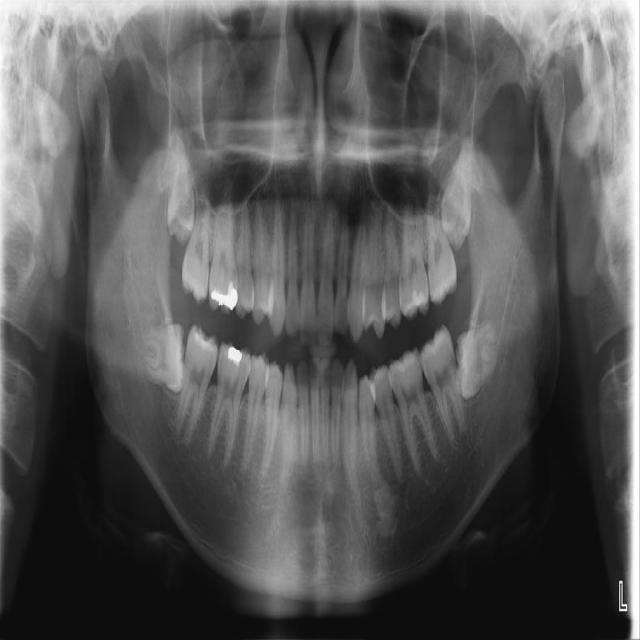Filling: (212, 277, 240, 314), (401, 286, 427, 315), (190, 330, 215, 351), (225, 346, 244, 363)
impacted tooth: (440, 133, 471, 248), (456, 315, 498, 399), (137, 325, 184, 392), (166, 132, 193, 243)
